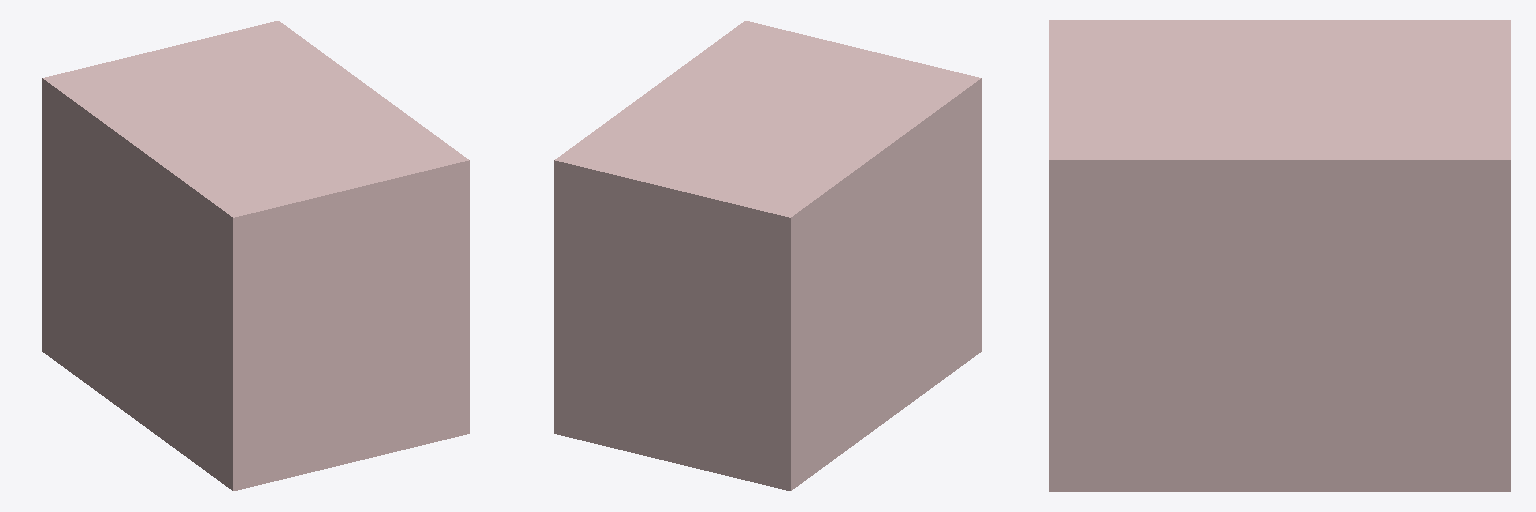
The robot description file, URDF, robot "box.urdf":
<?xml version="1.0" ?>
<robot name="box.urdf">
  <link name="baseLink">
    <contact>
      <lateral_friction value="1.0"/>
      <rolling_friction value="0.0001"/>
      <inertia_scaling value="3.0"/>
    </contact>
    <inertial>
      <origin rpy="0 0 0" xyz="0 0 0"/>
       <mass value="0.1"/>
       <inertia ixx="1" ixy="0" ixz="0" iyy="1" iyz="0" izz="1"/>
    </inertial>
    <visual>
      <origin rpy="0 0 0" xyz="0 0 0"/>
      <geometry>
        <!-- <box size="0.375 0.525 0.415"/> -->
        <mesh filename="box/box.obj" scale="0.375 0.525 0.415"/>
      </geometry>
      <material name="white">
        <color rgba="0.9 0.8 0.8 1"/>
      </material>
    </visual>
    <collision>
      <origin rpy="0 0 0" xyz="0 0 0"/>
      <geometry>
        <mesh filename="box/box.obj" scale="0.375 0.525 0.415"/>
	 	    <!-- <box size="0.375 0.525 0.415"/> -->
      </geometry>
    </collision>
  </link>
</robot>

--- Render facts (derived) ---
3 views of the same robot in one strip: view 1: azimuth 30°, elevation 25°; view 2: azimuth 150°, elevation 25°; view 3: azimuth 270°, elevation 25° (orthographic).
Robot: box.urdf — 1 links, 0 joints (none); root link baseLink; default pose: every joint at zero.
Visible links, largest first — view 1: baseLink; view 2: baseLink; view 3: baseLink.
Boxes of the visible links, x1=… form: baseLink: x1=42, y1=21, x2=469, y2=490; baseLink: x1=554, y1=21, x2=981, y2=490; baseLink: x1=1049, y1=20, x2=1510, y2=491.
Bounding box of the posed robot: 0.375 × 0.525 × 0.415 m (x, y, z).
1 mesh visuals loaded from 1 distinct referenced files (1 OBJ).
